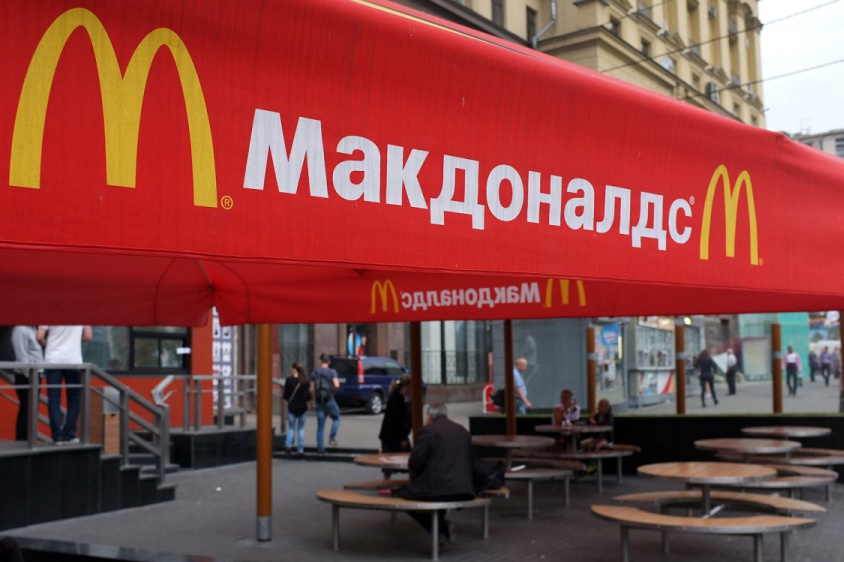mcdonalds: (10, 5, 226, 230), (695, 155, 766, 273)
